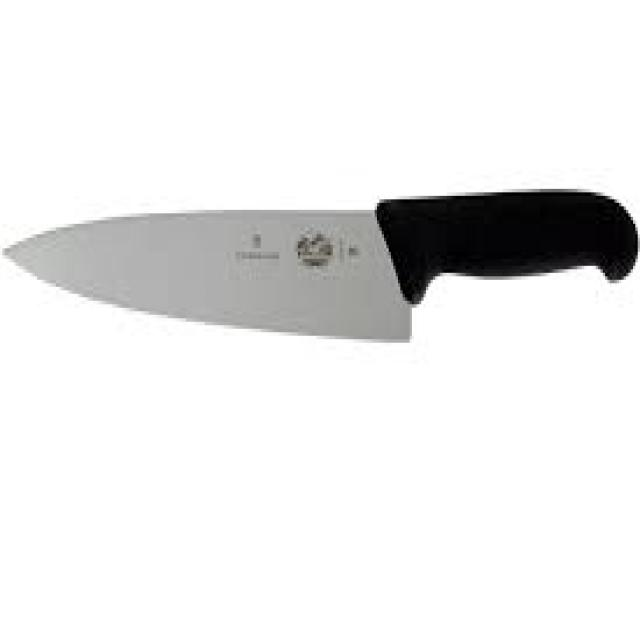knife: (1, 196, 640, 354)
